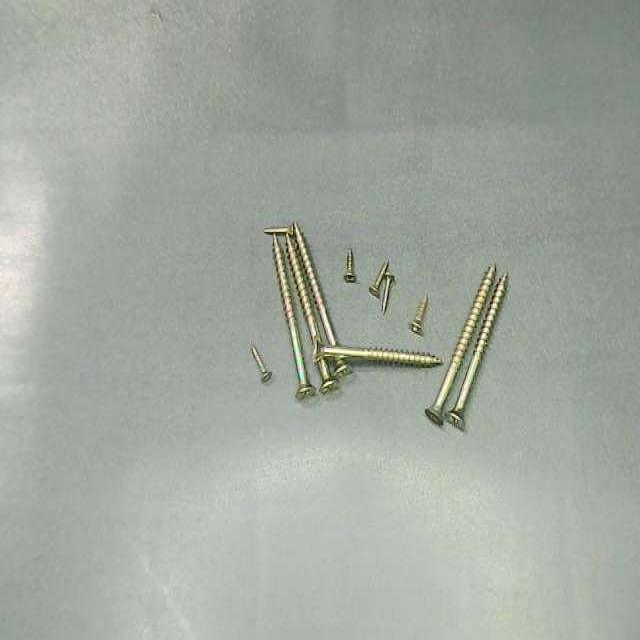Parafuso: (425, 264, 495, 425), (447, 274, 507, 430), (272, 236, 315, 399), (293, 223, 337, 345), (313, 339, 442, 367), (286, 238, 320, 342), (251, 346, 271, 382), (409, 296, 427, 335), (369, 262, 388, 297), (382, 274, 394, 313), (344, 250, 355, 282), (264, 224, 292, 234)
